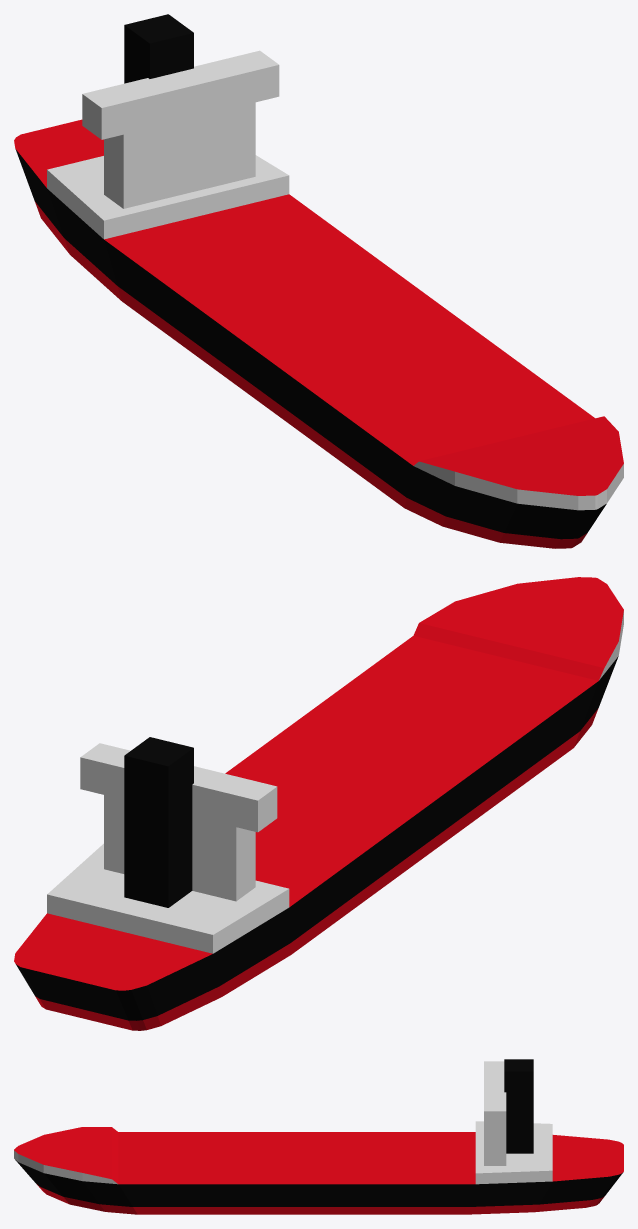
The model's file is tanker.glb.
3 views of the same model, one above another, from view 1: azimuth 30°, elevation 25°; view 2: azimuth 150°, elevation 25°; view 3: azimuth 270°, elevation 25° (orthographic). The views are drawn at different scales.
Parts seen in each view (by area): view 1: shipbase, Cube, Cube.001; view 2: shipbase, Cube, Cube.001; view 3: shipbase, Cube.001, Cube.
Part boxes in pixels (x1=…): shipbase: x1=14, y1=119, x2=623, y2=548; Cube: x1=82, y1=50, x2=279, y2=208; Cube.001: x1=124, y1=14, x2=193, y2=83; shipbase: x1=14, y1=577, x2=623, y2=1030; Cube: x1=80, y1=743, x2=277, y2=901; Cube.001: x1=124, y1=737, x2=193, y2=907; shipbase: x1=14, y1=1121, x2=623, y2=1214; Cube.001: x1=504, y1=1059, x2=533, y2=1153; Cube: x1=484, y1=1061, x2=506, y2=1165.
Bounding box in the file's own units: 17.98 × 20.14 × 88.75.
